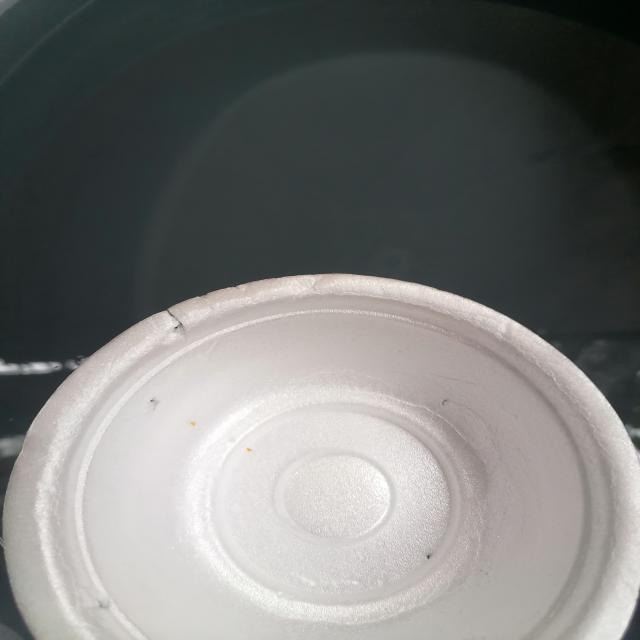Styrofoam Container: (4, 274, 640, 640)
